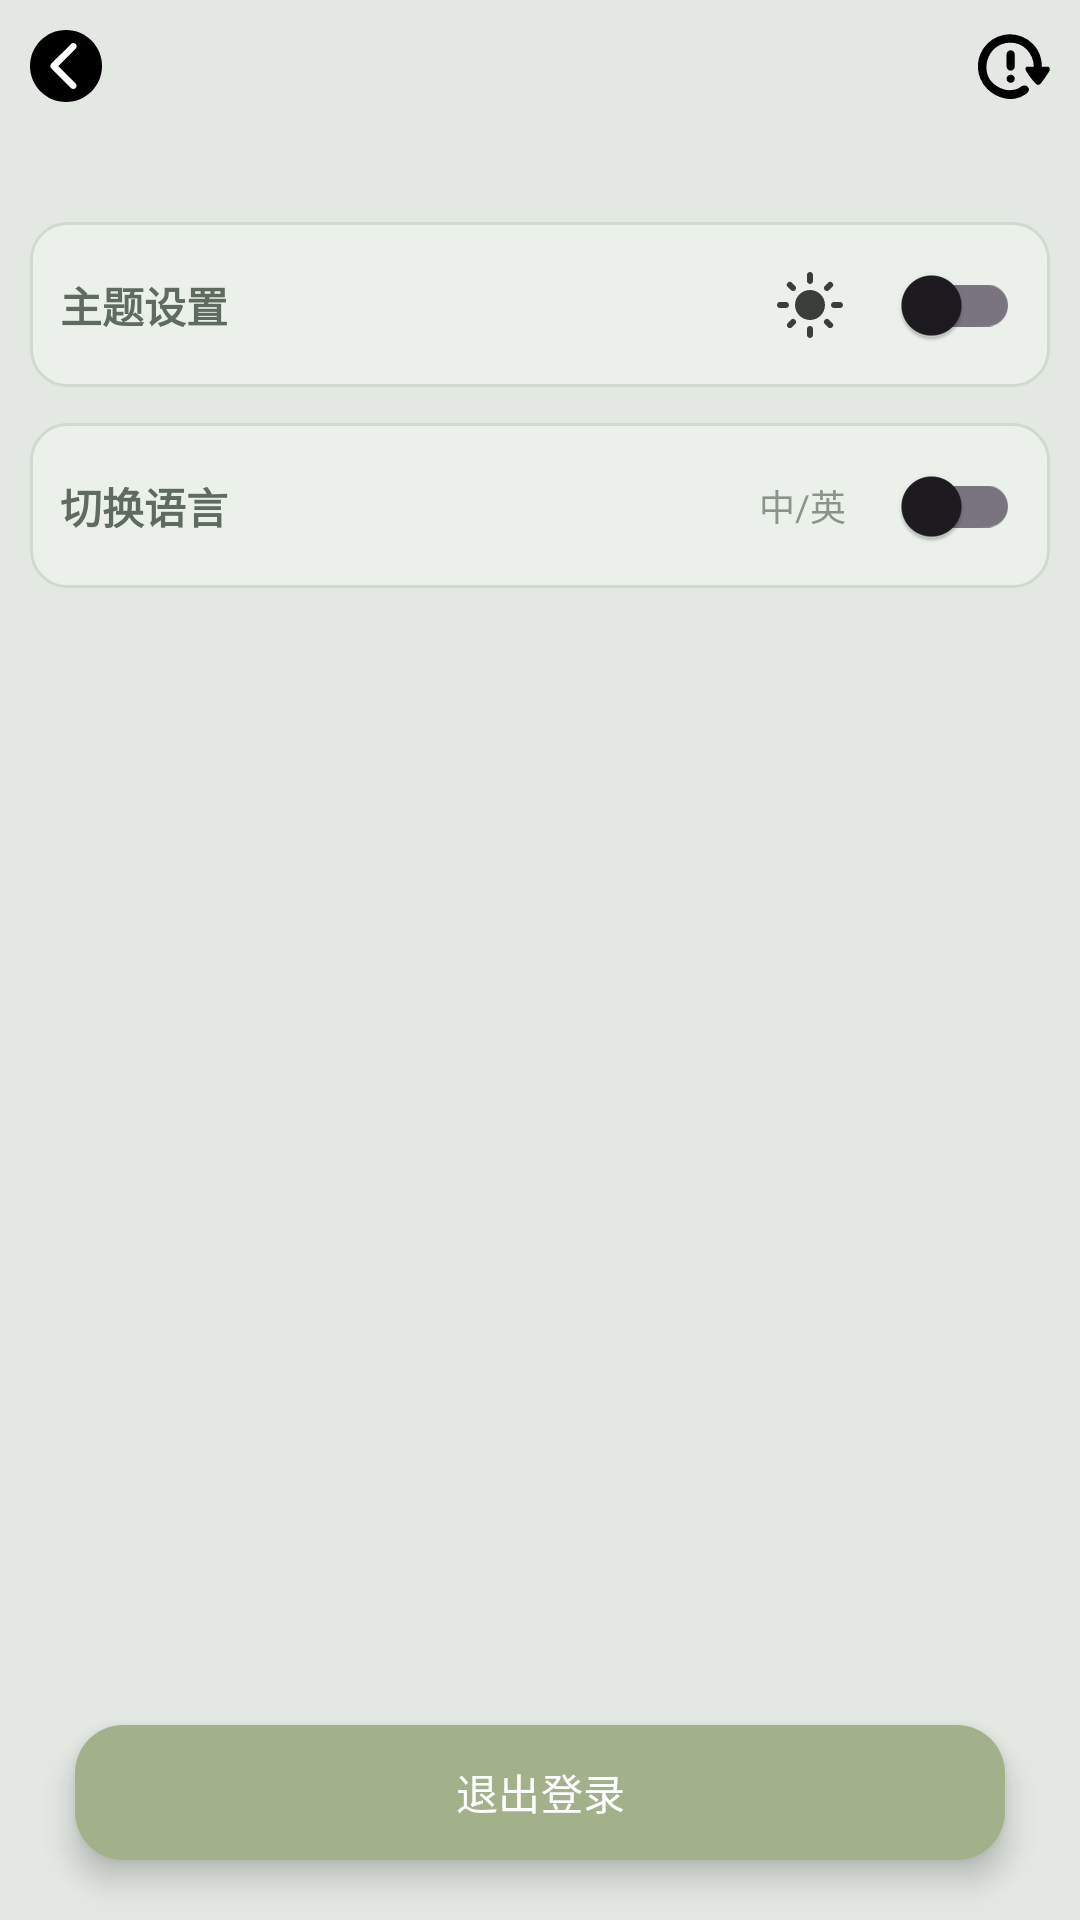

Icons on this 1080×1920 Android screen, each with its box as box=[x1, y1, x2, y2]:
back: box=[30, 30, 102, 102]
theme: box=[777, 272, 843, 338]
update: box=[978, 34, 1050, 99]
